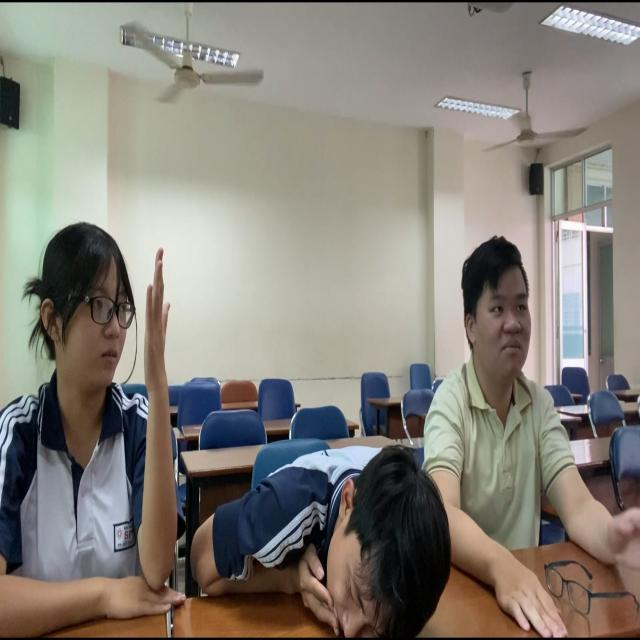raise_hand: (1, 224, 171, 640)
sleep: (197, 440, 472, 640)
